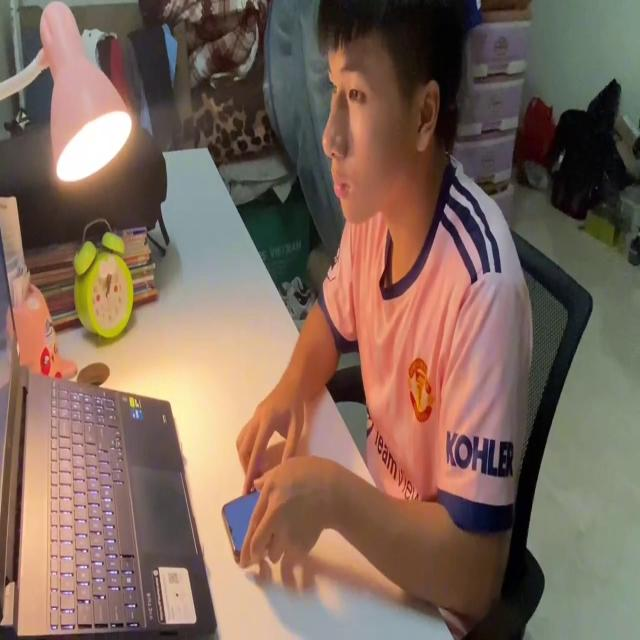laptop: (0, 209, 218, 640)
phone: (218, 489, 271, 567)
student: (235, 0, 533, 640)
